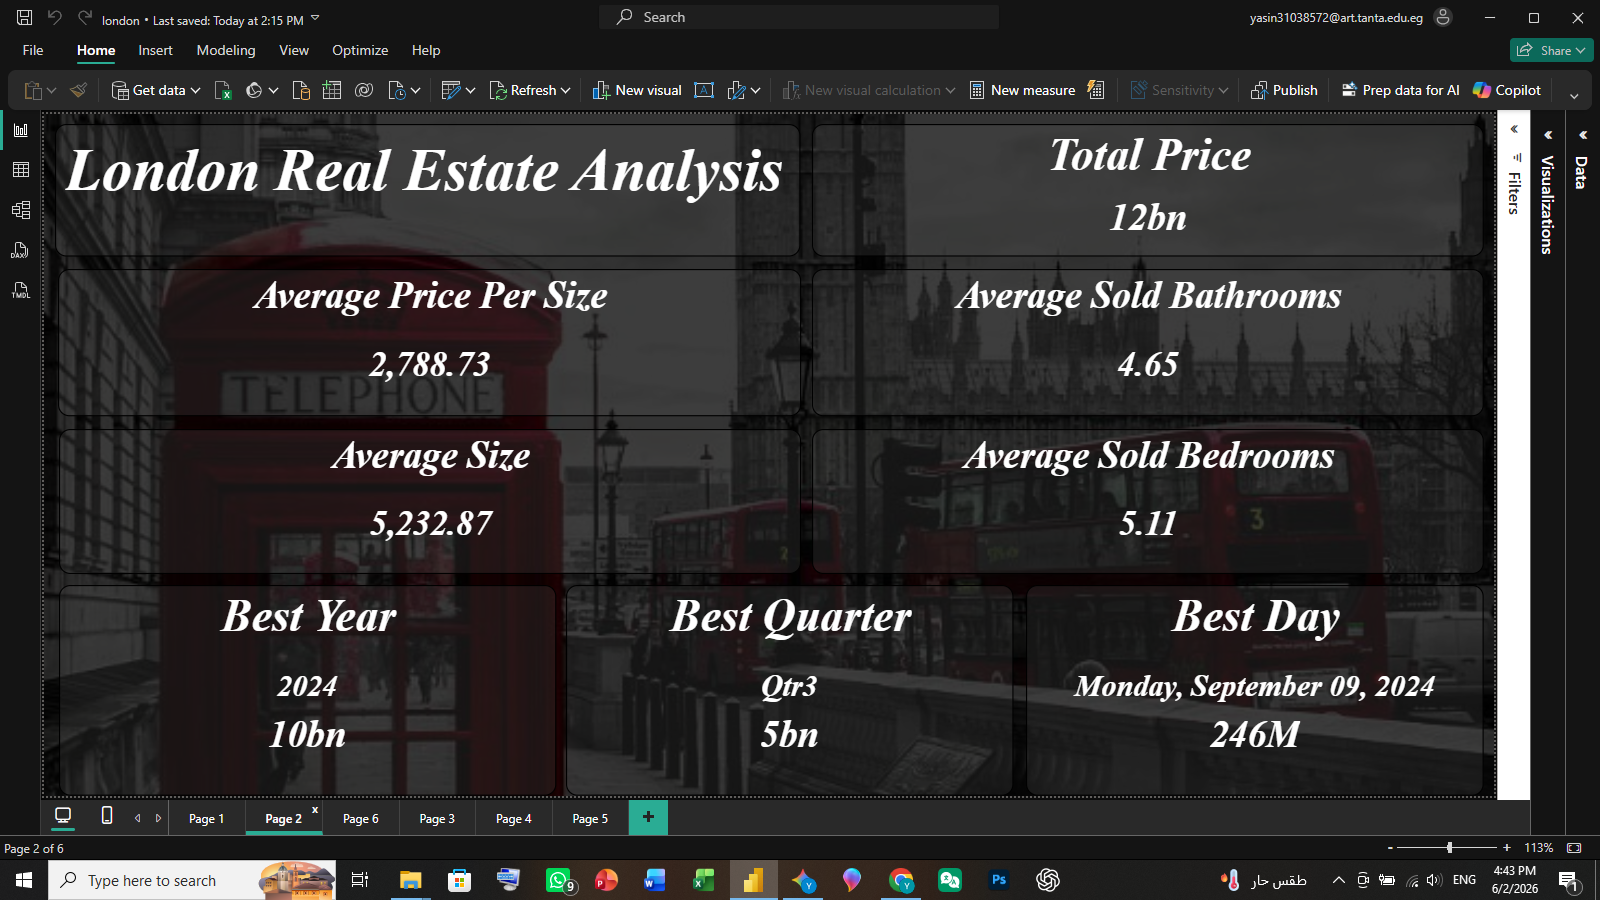

This screenshot's page, from the dashboard's own definition file:
{"tool":"powerbi","page":{"name":"Page 2","canvas":[1280,602],"ordinal":1},"visuals":[{"type":"textbox","box":[9.7,8.8,658.5,117.4],"z":0},{"type":"card","title":"Average Price Per Size","fields":{"Values":["Sum(totals.average price per size)"]},"box":[12.4,136.8,655.8,129.8],"z":1000},{"type":"card","title":"Average Sold Bathrooms","fields":{"Values":["Sum(totals.average sold bathrooms)"]},"box":[677.9,136.8,593.2,129.8],"z":2000},{"type":"card","title":"Average Sold Bedrooms","fields":{"Values":["Sum(totals.average sold bedrooms)"]},"box":[677.9,278,593.2,128],"z":3000},{"type":"card","title":"Average Size","fields":{"Values":["Sum(totals.average size)"]},"box":[13.2,278,655,128],"z":4000},{"type":"card","title":"Total Price","fields":{"Values":["Sum(totals.total price)"]},"box":[677.9,8.8,593.2,117.4],"z":5000},{"type":"cardVisual","title":"Best Year","fields":{"Data":["Sum(best year.Sum of price)"],"Rows":["best year.Row Labels"]},"box":[13.2,415.8,438.7,186.2],"z":6000},{"type":"cardVisual","title":"Best Day","fields":{"Rows":["best day.Row Labels"],"Data":["Sum(best day.Sum of price)"]},"box":[866.8,415.8,404.3,186.2],"z":7000},{"type":"cardVisual","title":"Best Quarter","fields":{"Rows":["best quarter.uar"],"Data":["Sum(best quarter.Sum of price)"]},"box":[460.8,415.8,394.6,186.2],"z":8000}]}

Visuals, with their boxes on the page's 1280x602 design canvas (x1, y1, x2, y2). These are canvas units, not pixel positions in the 1600x900 screenshot, which may show the page scaled, cropped or inside an application window:
textbox: left=10, top=9, right=668, bottom=126
"Average Price Per Size" card: left=12, top=137, right=668, bottom=267
"Average Sold Bathrooms" card: left=678, top=137, right=1271, bottom=267
"Average Sold Bedrooms" card: left=678, top=278, right=1271, bottom=406
"Average Size" card: left=13, top=278, right=668, bottom=406
"Total Price" card: left=678, top=9, right=1271, bottom=126
"Best Year" cardVisual: left=13, top=416, right=452, bottom=602
"Best Day" cardVisual: left=867, top=416, right=1271, bottom=602
"Best Quarter" cardVisual: left=461, top=416, right=855, bottom=602
